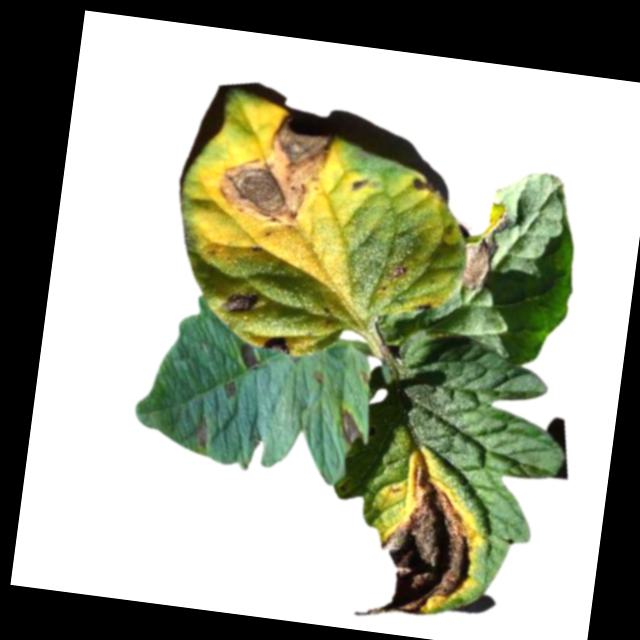Early_blight: (353, 445, 495, 636), (200, 100, 339, 238), (456, 197, 514, 296), (216, 288, 261, 316), (335, 409, 364, 447), (407, 175, 442, 206), (259, 331, 294, 357), (191, 413, 214, 451), (234, 343, 259, 374), (387, 260, 410, 281), (219, 378, 238, 402), (347, 177, 368, 197)
